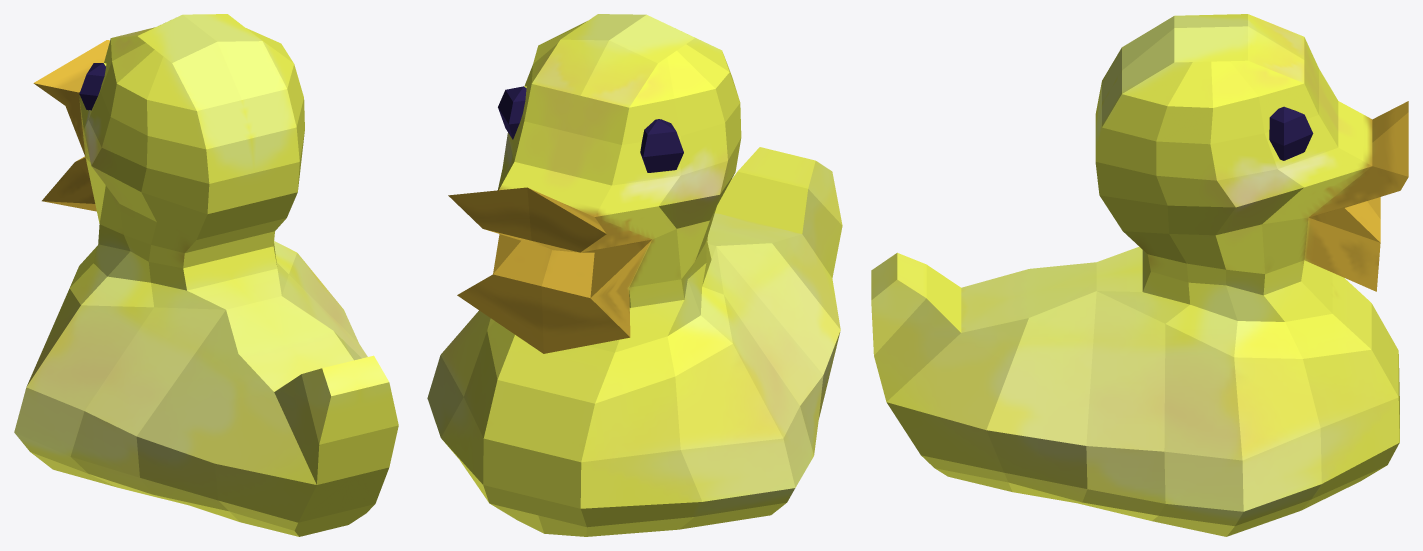
The model's file is duck.fbx.
3 views of the same model, side by side, from view 1: azimuth 30°, elevation 25°; view 2: azimuth 150°, elevation 25°; view 3: azimuth 270°, elevation 25° (orthographic). The views are drawn at different scales.
Visible parts, largest first — view 1: Plane; view 2: Plane; view 3: Plane.
Part boxes in pixels (x1,y1,x2,y2): Plane: [14, 14, 398, 536]; Plane: [427, 14, 842, 536]; Plane: [871, 14, 1408, 536].
Size of the model in its own units: 102 by 118 by 131.
